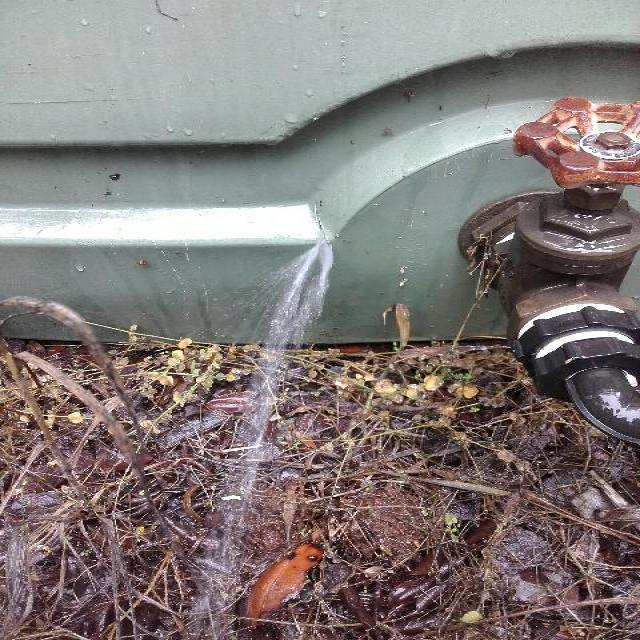leak: (240, 240, 334, 447), (189, 450, 259, 640)
